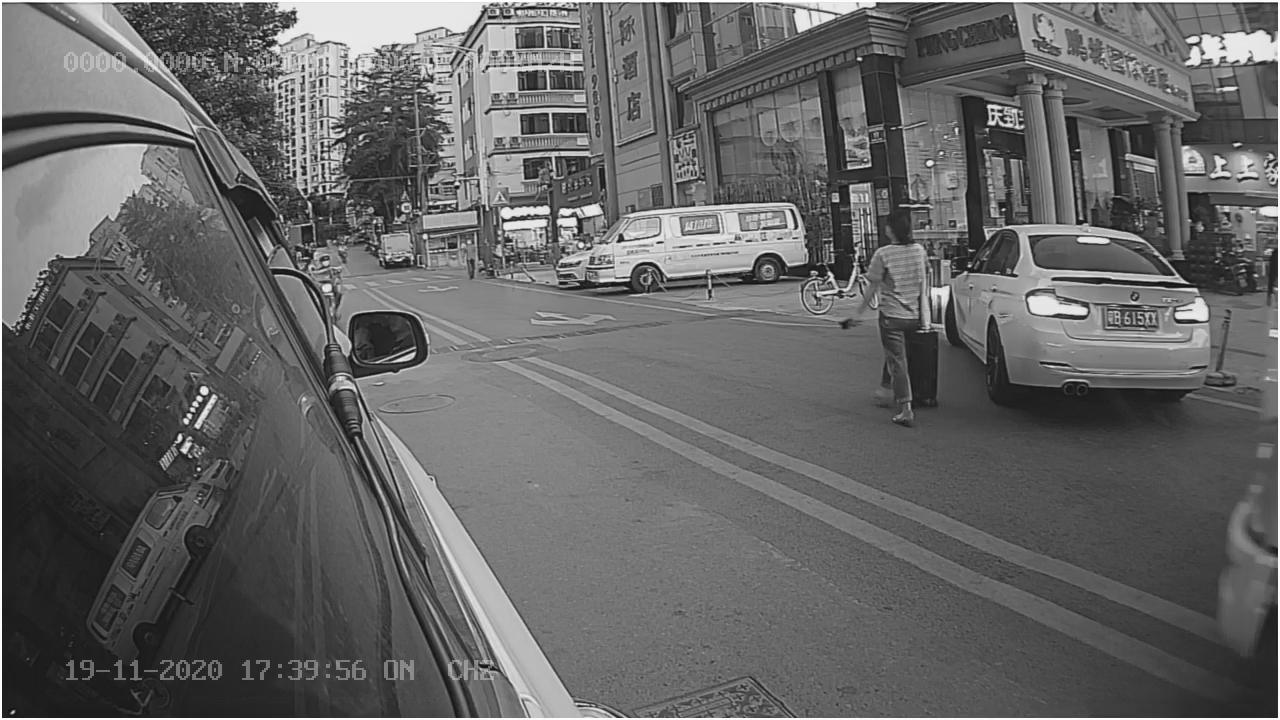person: (846, 214, 938, 427)
